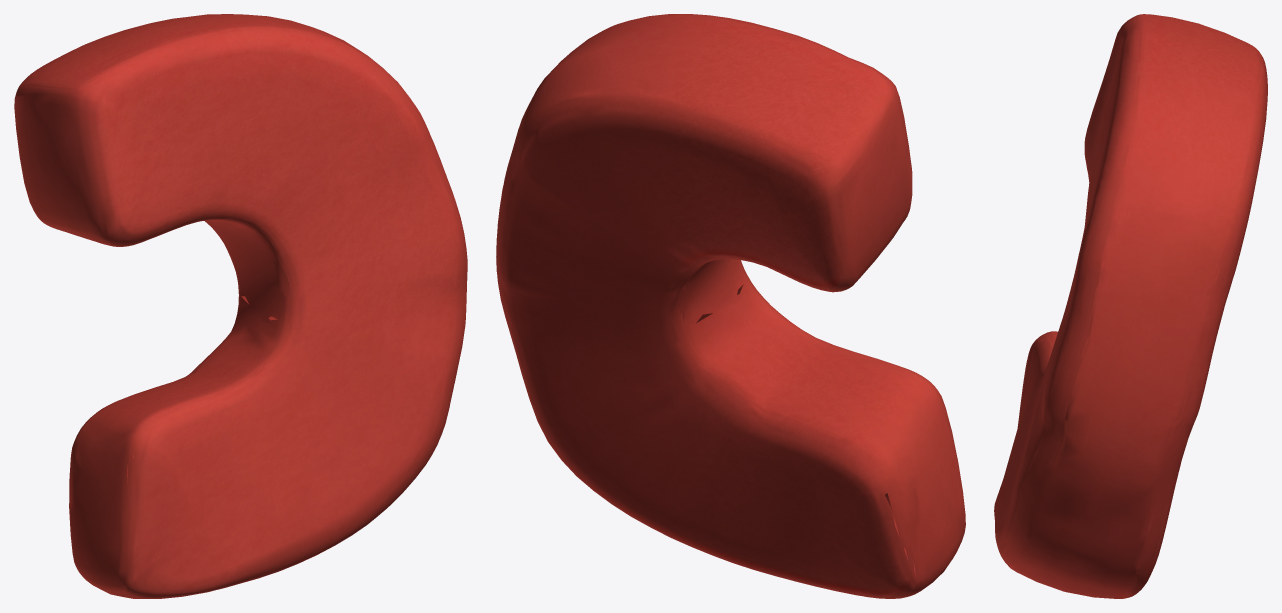
File: Stack 0C - D.glb
The picture shows the model from 3 angles, left to right: view 1: azimuth 30°, elevation 25°; view 2: azimuth 150°, elevation 25°; view 3: azimuth 270°, elevation 25°; orthographic projection. The views are drawn at different scales.
Visible parts, largest first — view 1: Stack 0C - D · mesh; view 2: Stack 0C - D · mesh; view 3: Stack 0C - D · mesh.
Boxes of the visible parts, left/top/right/bottom form: Stack 0C - D · mesh: left=14, top=14, right=467, bottom=598; Stack 0C - D · mesh: left=496, top=14, right=965, bottom=598; Stack 0C - D · mesh: left=994, top=14, right=1267, bottom=598.
Bounding box in the file's own units: 0.7642 × 1 × 0.478.
Materials: 1 (1 with a texture image).
